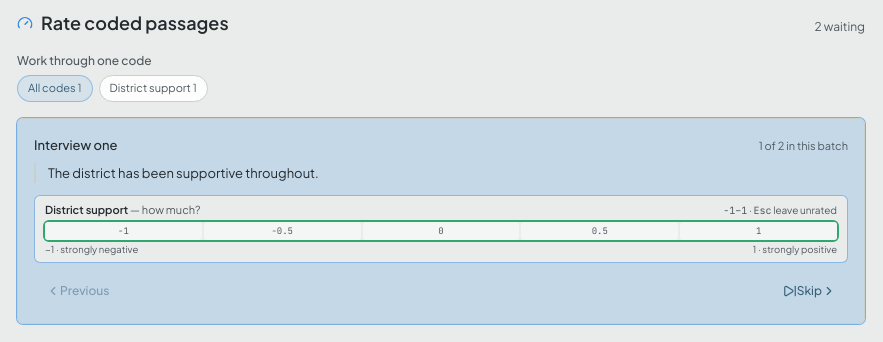
Test: RatingSweep — skipping writes nothing › Previous is disabled on the first passage and reachable after moving on
Expected: the text "The district has been supportive throughout." is shown, [34, 162, 848, 182]
Expected: the button with aria-label "previous passage" is disabled, [34, 275, 121, 307]
Press Escape in the element showing "−1 −0.5 0 0.5 1", box [45, 222, 837, 240]
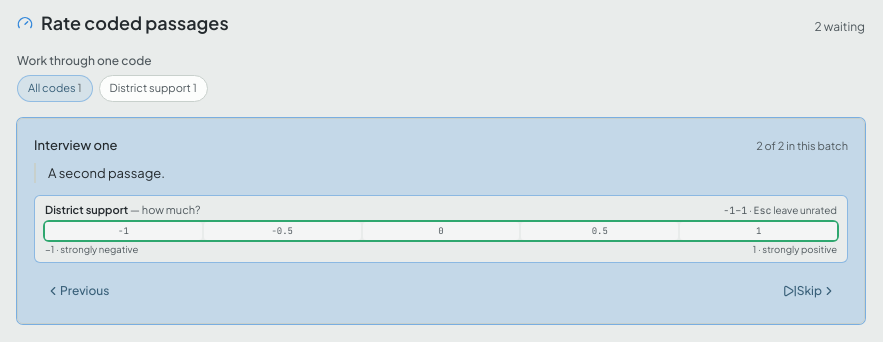
Result: the text "A second passage." is shown at [34, 162, 848, 182]
Click the button with aria-label "previous passage" at (78, 291), box [34, 275, 121, 307]
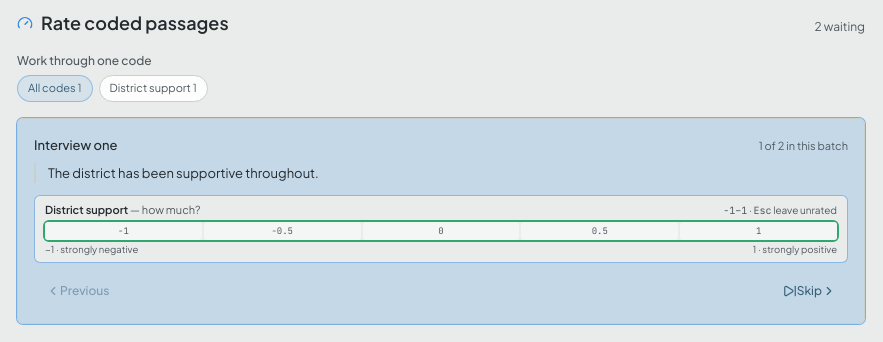
Result: the text "The district has been supportive throughout." is shown at [34, 162, 848, 182]
